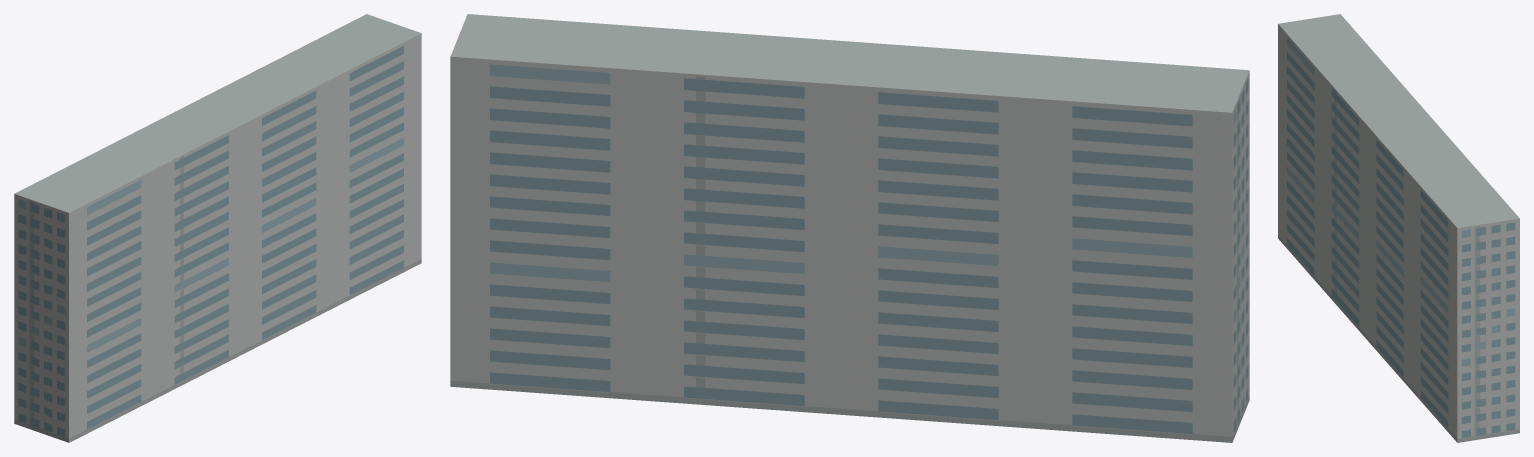
The model's file is residential-0841108d-aa34-499a-930d-b267ba9cb489.glb.
3 views of the same model, side by side, from view 1: azimuth 30°, elevation 25°; view 2: azimuth 150°, elevation 25°; view 3: azimuth 270°, elevation 25° (orthographic). The views are drawn at different scales.
Visible parts, largest first — view 1: residential-0841108d-aa34-499a-930d-b267ba9cb489.tmp; view 2: residential-0841108d-aa34-499a-930d-b267ba9cb489.tmp; view 3: residential-0841108d-aa34-499a-930d-b267ba9cb489.tmp.
Part boxes in pixels (x1=…): residential-0841108d-aa34-499a-930d-b267ba9cb489.tmp: x1=14, y1=14, x2=421, y2=442; residential-0841108d-aa34-499a-930d-b267ba9cb489.tmp: x1=450, y1=14, x2=1249, y2=442; residential-0841108d-aa34-499a-930d-b267ba9cb489.tmp: x1=1278, y1=14, x2=1519, y2=442.
Size of the model in its own units: 97.89 by 45.75 by 46.71.
